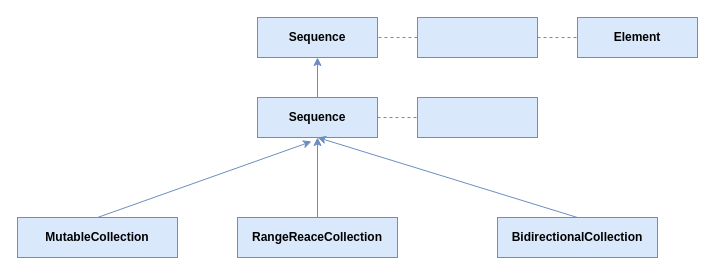
Image size: 715x275. Some labels were removed from this diagram. The centre of each missing label's shape, as x and y in pixels:
"Index" goes at [477,117].
"Iterator" goes at [477,37].
